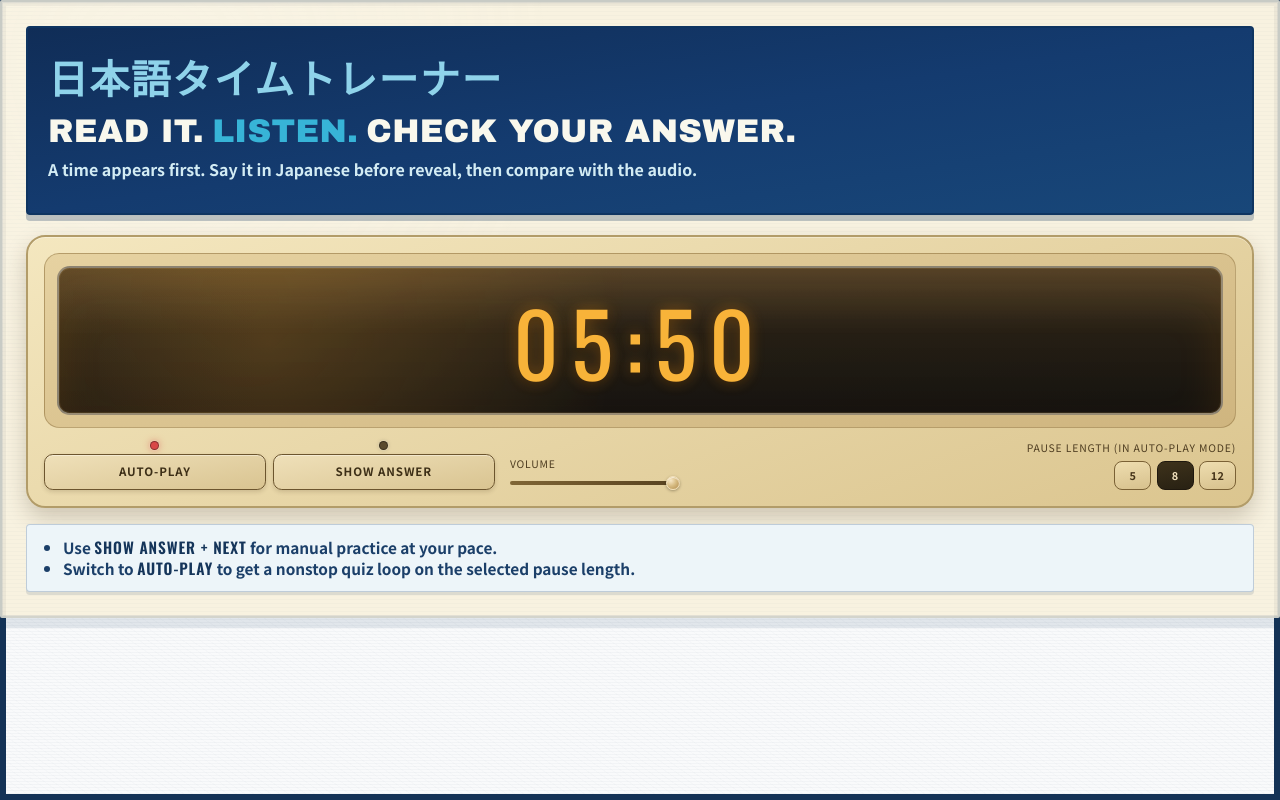
Test: JapaneseTimePracticeToolPage › reveals answer and advances manually in random mode
The image size is (1280, 800).
What coordinates should you click on to do the following:
click the button "Show Answer"
I would click on:
 (384, 472)
Its box is [273, 454, 495, 490].
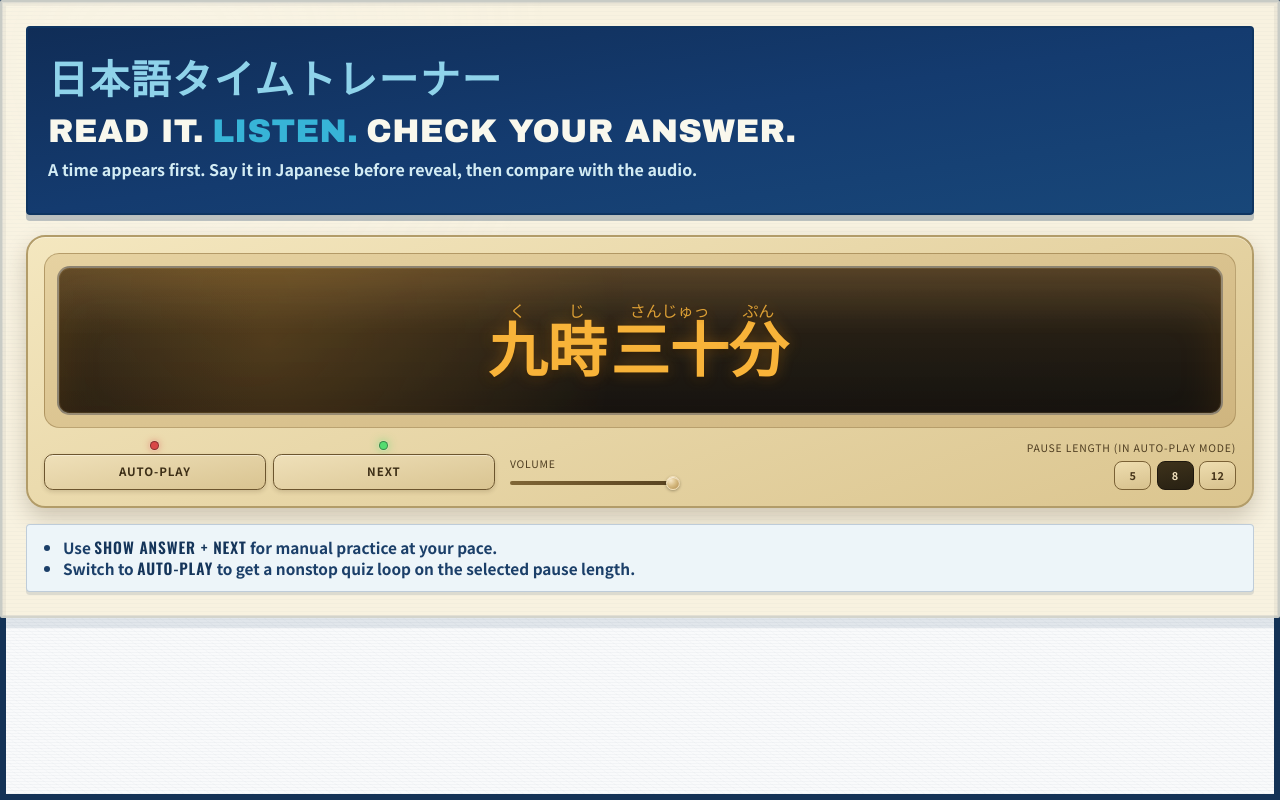
What coordinates should you click on to do the following:
click the button with aria-label "advance to the next item"
I would click on:
 (384, 472)
Its box is [273, 454, 495, 490].
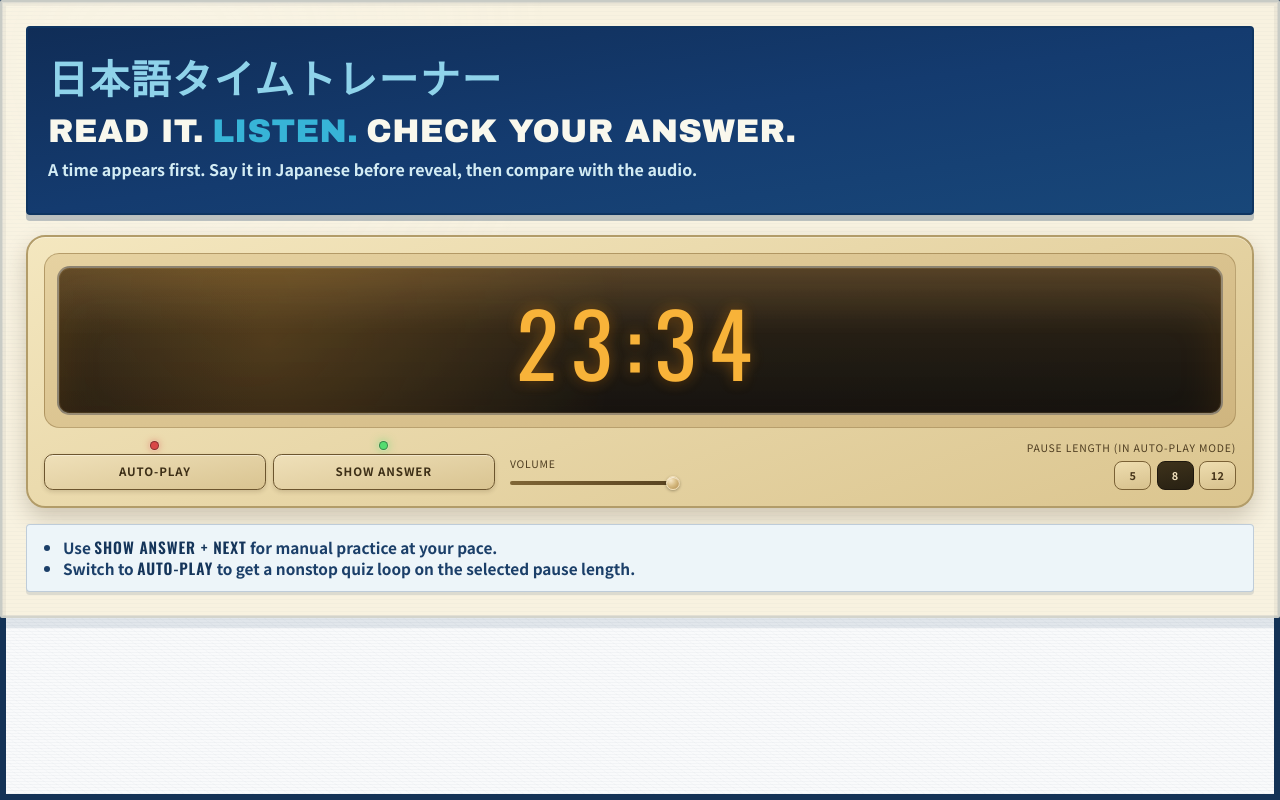
Check: the button "Show Answer" is shown, box [273, 454, 495, 490]
